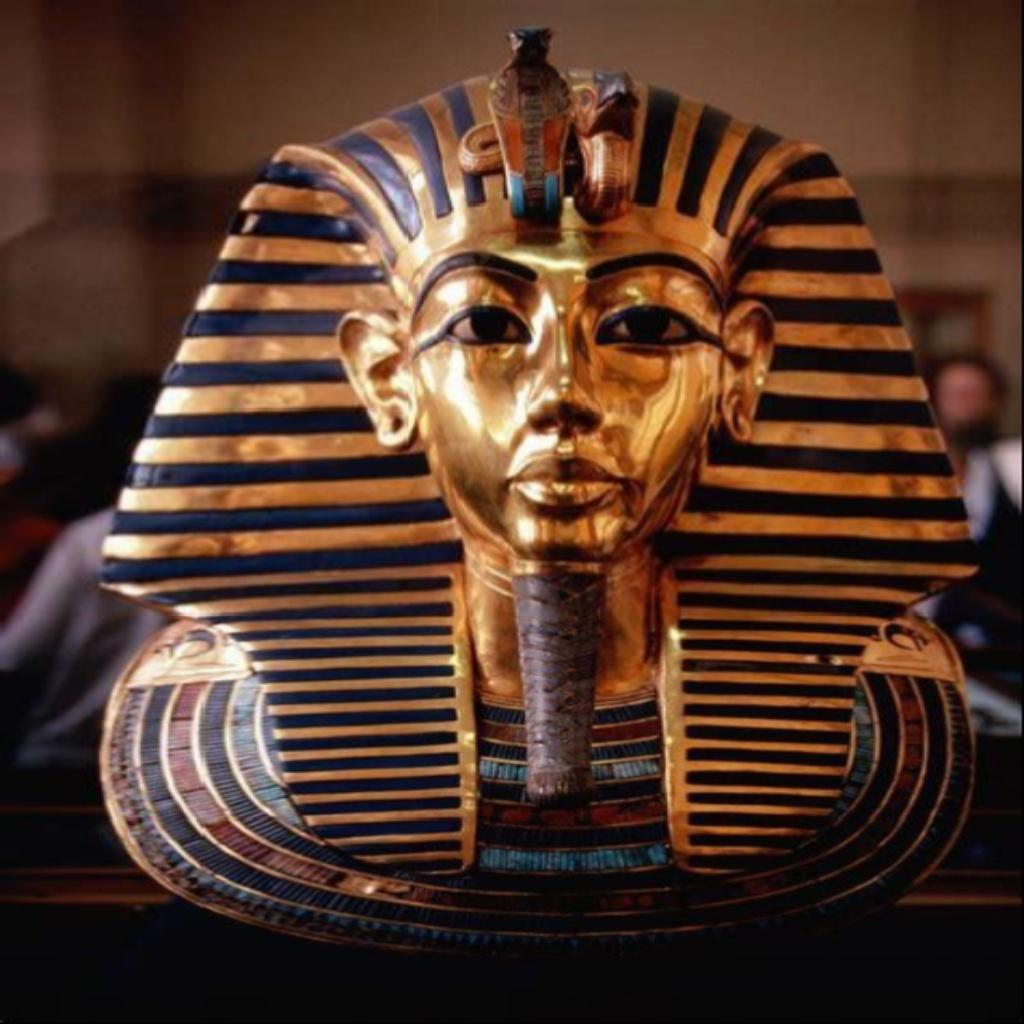Mask of Tutankhamun: (89, 26, 983, 954)
